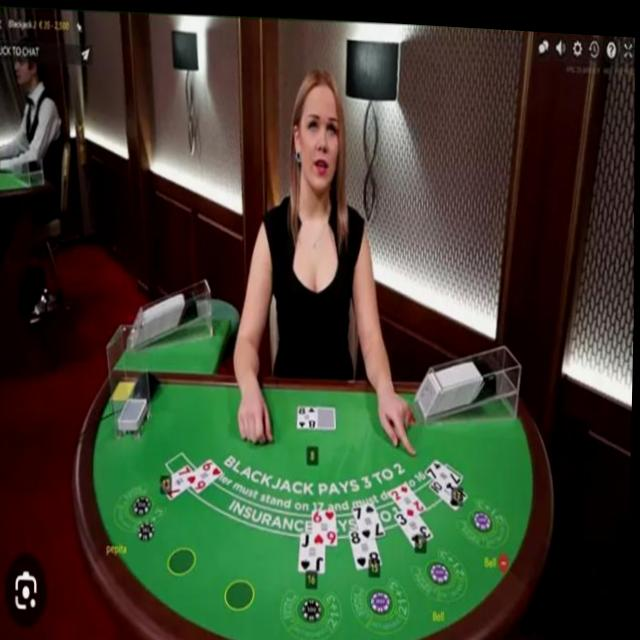Card-10: (431, 474, 470, 504)
Card-2: (390, 477, 428, 515)
Card-3: (396, 506, 436, 542)
Card-6: (189, 455, 224, 490), (314, 506, 339, 541)
Card-7: (427, 453, 464, 487), (354, 498, 387, 535), (162, 461, 193, 497)
Card-8: (351, 525, 384, 564), (298, 401, 319, 425)
Card-J: (300, 529, 328, 568)
